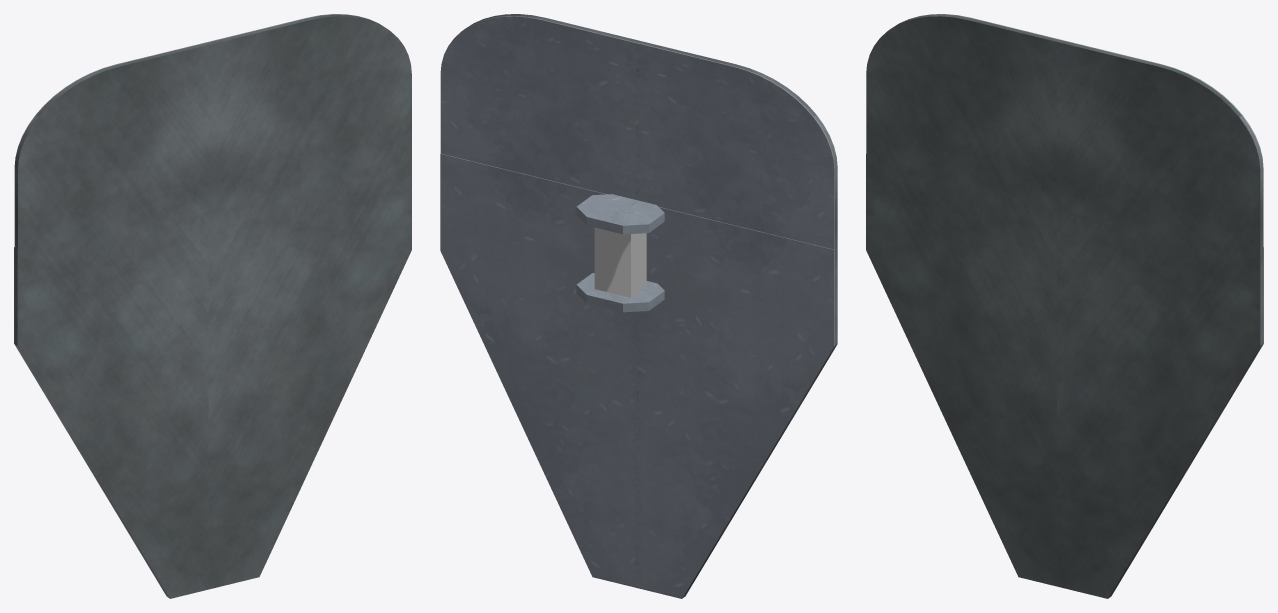
File: Shield.fbx
3 views of the same model, side by side, from view 1: azimuth 30°, elevation 25°; view 2: azimuth 150°, elevation 25°; view 3: azimuth 330°, elevation 25° (orthographic).
Visible parts, largest first — view 1: mergedBlocks; view 2: mergedBlocks; view 3: mergedBlocks.
Part boxes in pixels (<box>): mergedBlocks: <box>14,14,411,598</box>; mergedBlocks: <box>440,14,837,598</box>; mergedBlocks: <box>866,14,1263,598</box>.
Size of the model in its own units: 6.19 by 8.18 by 0.9.
